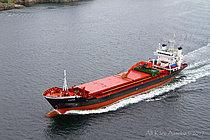Ship: (42, 36, 189, 121)
